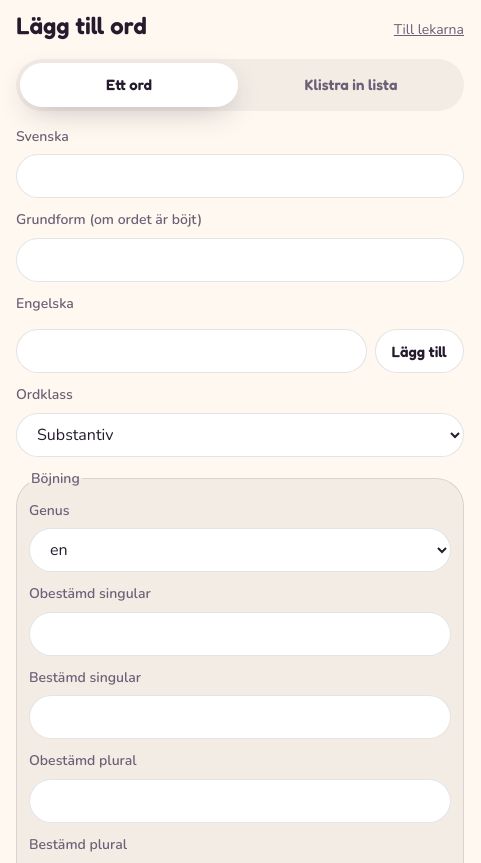
it: Add › empties the paste box once the import is done
Click the tab "Klistra in lista" at (351, 85), box [242,63,460,107]
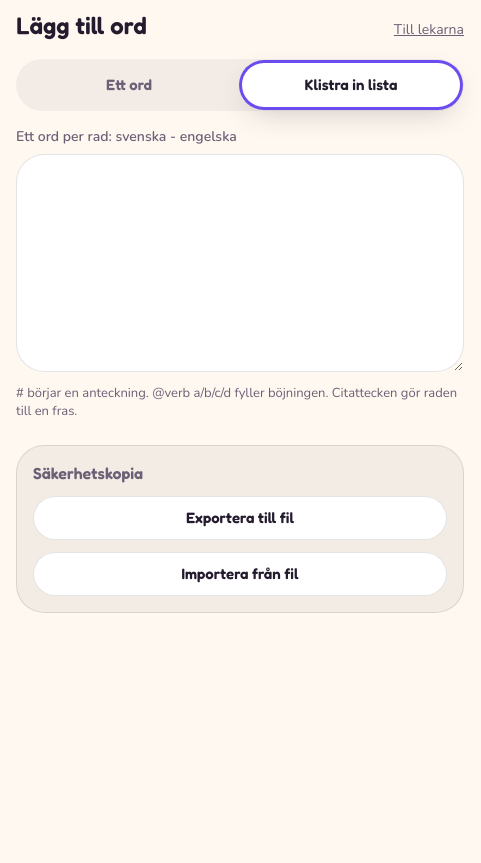
Type "hus - house" into the text box labelled "Ett ord per rad: svenska - engelska" at (240, 263), box [16,154,464,372]
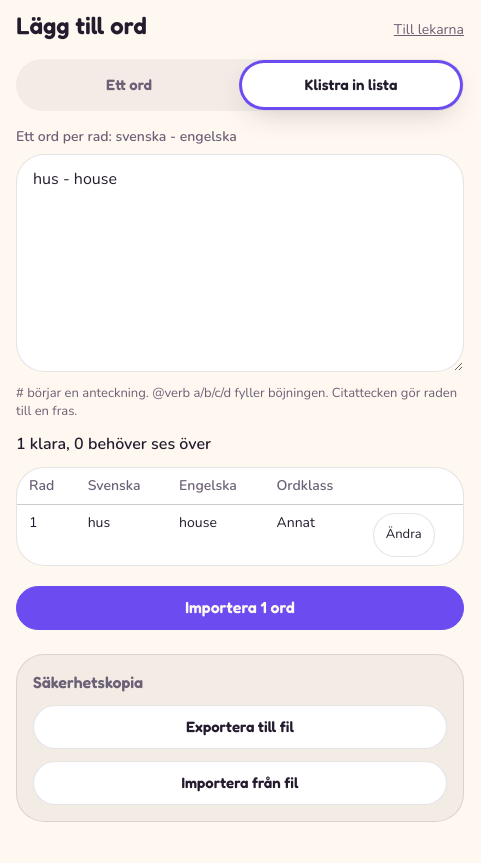
Click the button "Importera 1 ord" at (240, 608), box [16,586,464,630]
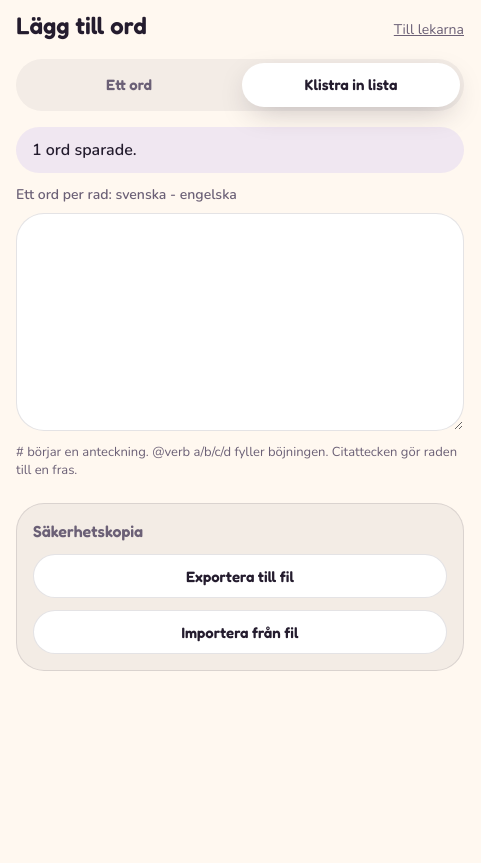
Check: the text box labelled "Ett ord per rad: svenska - engelska" is empty, box [16,213,464,431]
Check: the table is gone
